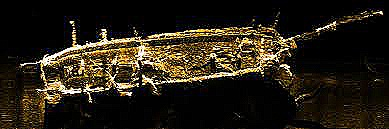ship: (19, 9, 383, 105)
